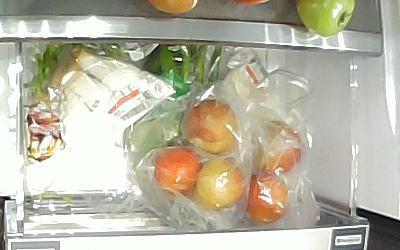prune_vinyl: (180, 97, 237, 154), (248, 119, 302, 175), (191, 156, 245, 210), (239, 168, 289, 224), (152, 144, 203, 194)
